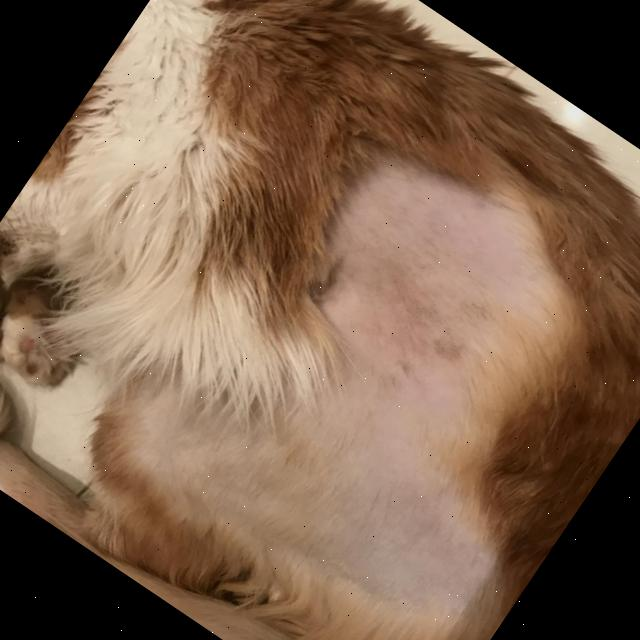cat-hairloss: (180, 178, 582, 618)
